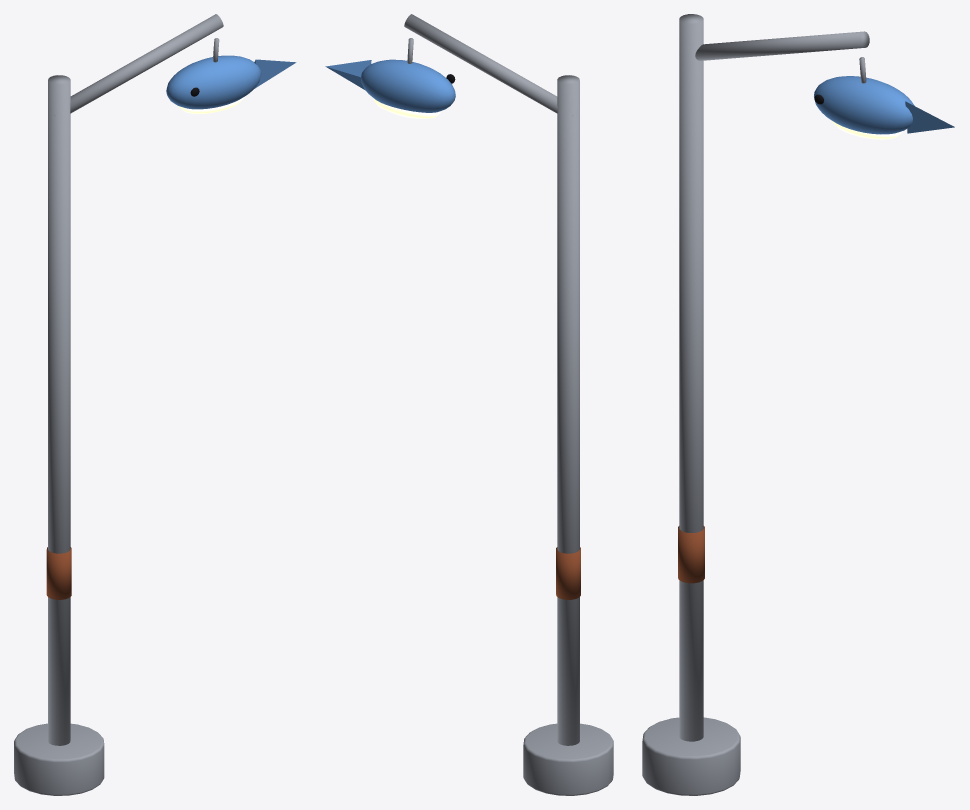
File: zc_street_lamp.godot.glb
3 views of the same model, side by side, from view 1: azimuth 30°, elevation 25°; view 2: azimuth 150°, elevation 25°; view 3: azimuth 330°, elevation 25° (orthographic). The views are drawn at different scales.
Visible parts, largest first — view 1: lamp_pole, lamp_head; view 2: lamp_pole, lamp_head; view 3: lamp_pole, lamp_head.
Part boxes in pixels (bbox=[...]): lamp_pole: bbox=[14, 14, 223, 795]; lamp_head: bbox=[166, 38, 296, 114]; lamp_pole: bbox=[404, 14, 613, 795]; lamp_head: bbox=[325, 38, 455, 118]; lamp_pole: bbox=[642, 14, 869, 795]; lamp_head: bbox=[814, 57, 954, 139].
Size of what is drawn, in the model's own units: 1.28 by 3.17 by 0.36.
Materials: 2 (1 with a texture image).
